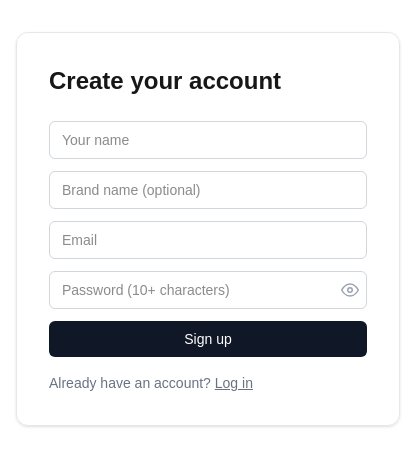
Test: SignUpPage validation › rejects a short password client-side
Step 1. Type "Nae" into the field labelled "Your name" → (208, 140), box [49, 121, 367, 159]
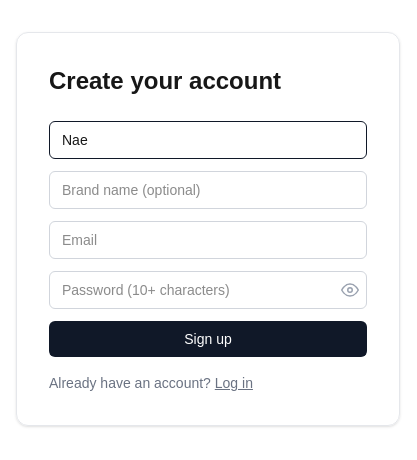
Step 2. Type "nae@example.com" into the field labelled "Email" → (208, 240), box [49, 221, 367, 259]
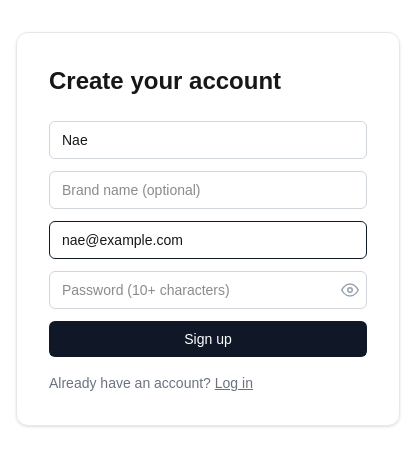
Step 3. Type "short" into the password field labelled "Password" → (208, 290), box [49, 271, 367, 309]
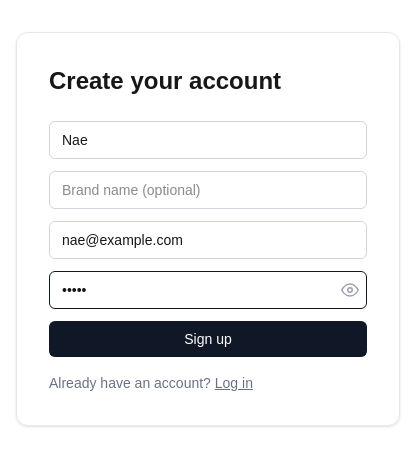
Step 4. Click the button "Sign up" → (208, 339), box [49, 321, 367, 357]
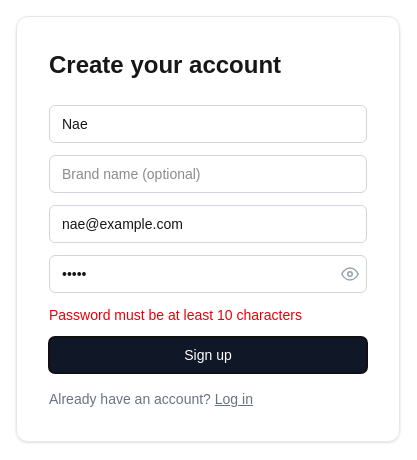
Now the text "Password must be at least 10 characters" is shown, box [49, 307, 302, 323]
